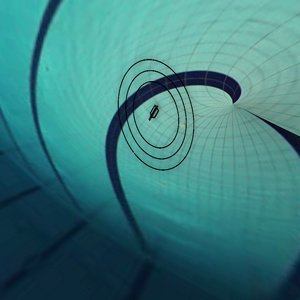circle: (112, 54, 199, 177)
submarine: (144, 101, 166, 132)
